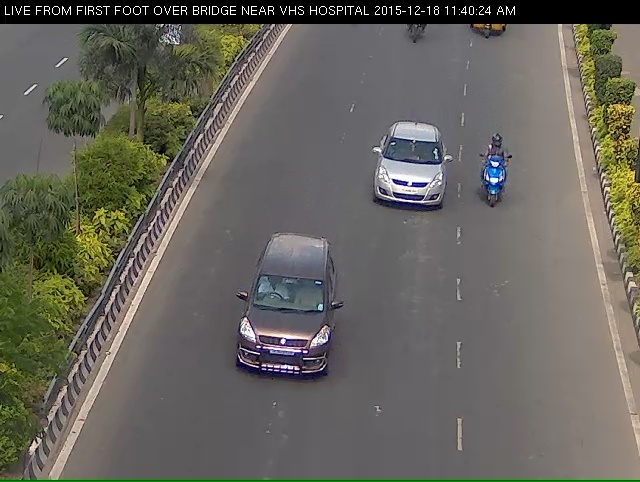Auto: (468, 25, 515, 51)
Car: (228, 249, 340, 425), (364, 143, 458, 243)
Person: (490, 158, 508, 231)
